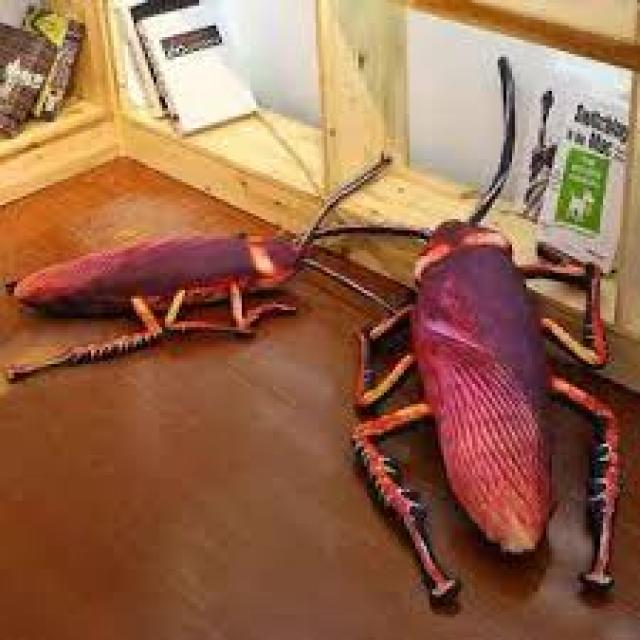Cockroach: (351, 62, 636, 621), (1, 149, 420, 372)
